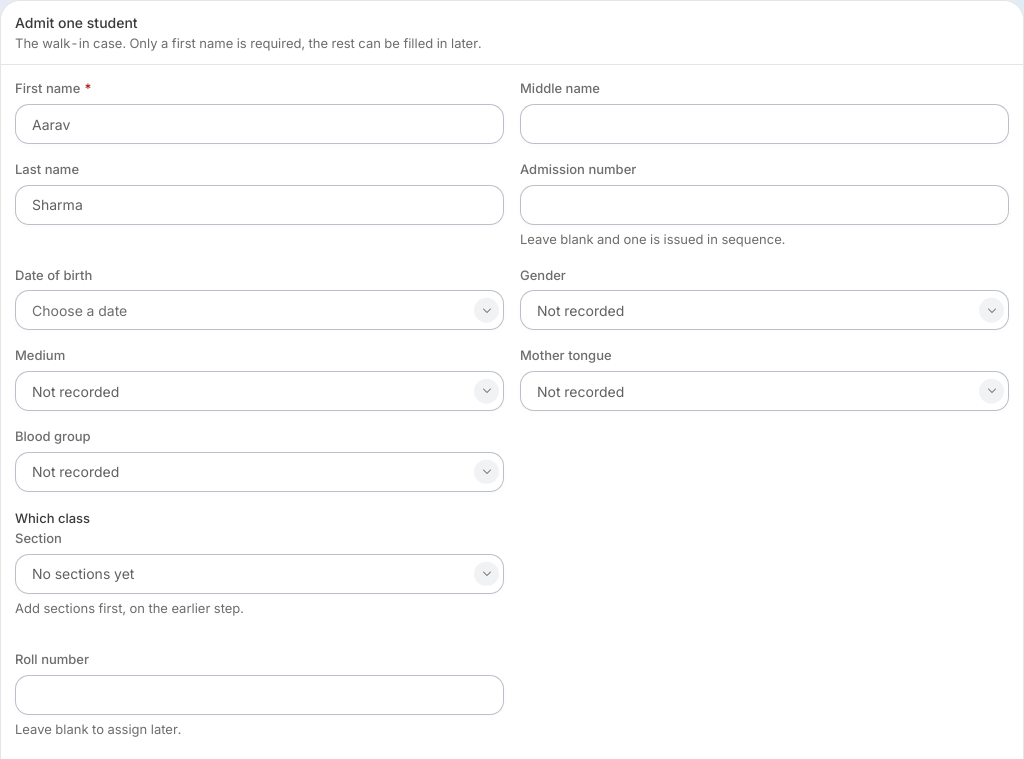
date of birth on the admit form › opens the calendar without leaving the screen
This screenshot has width=1024, height=759.
Click the button "Choose a date" at [80, 310], box [15,290,504,330]
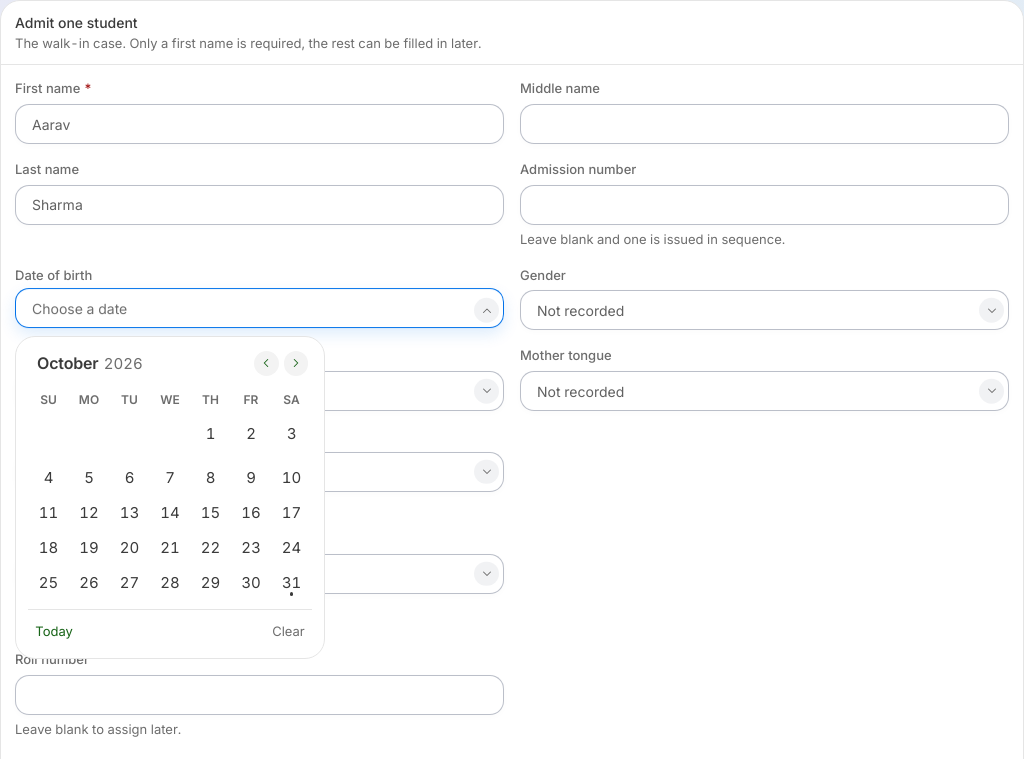
Check: the dialog named "Choose a date" is shown, box [15,336,325,659]
